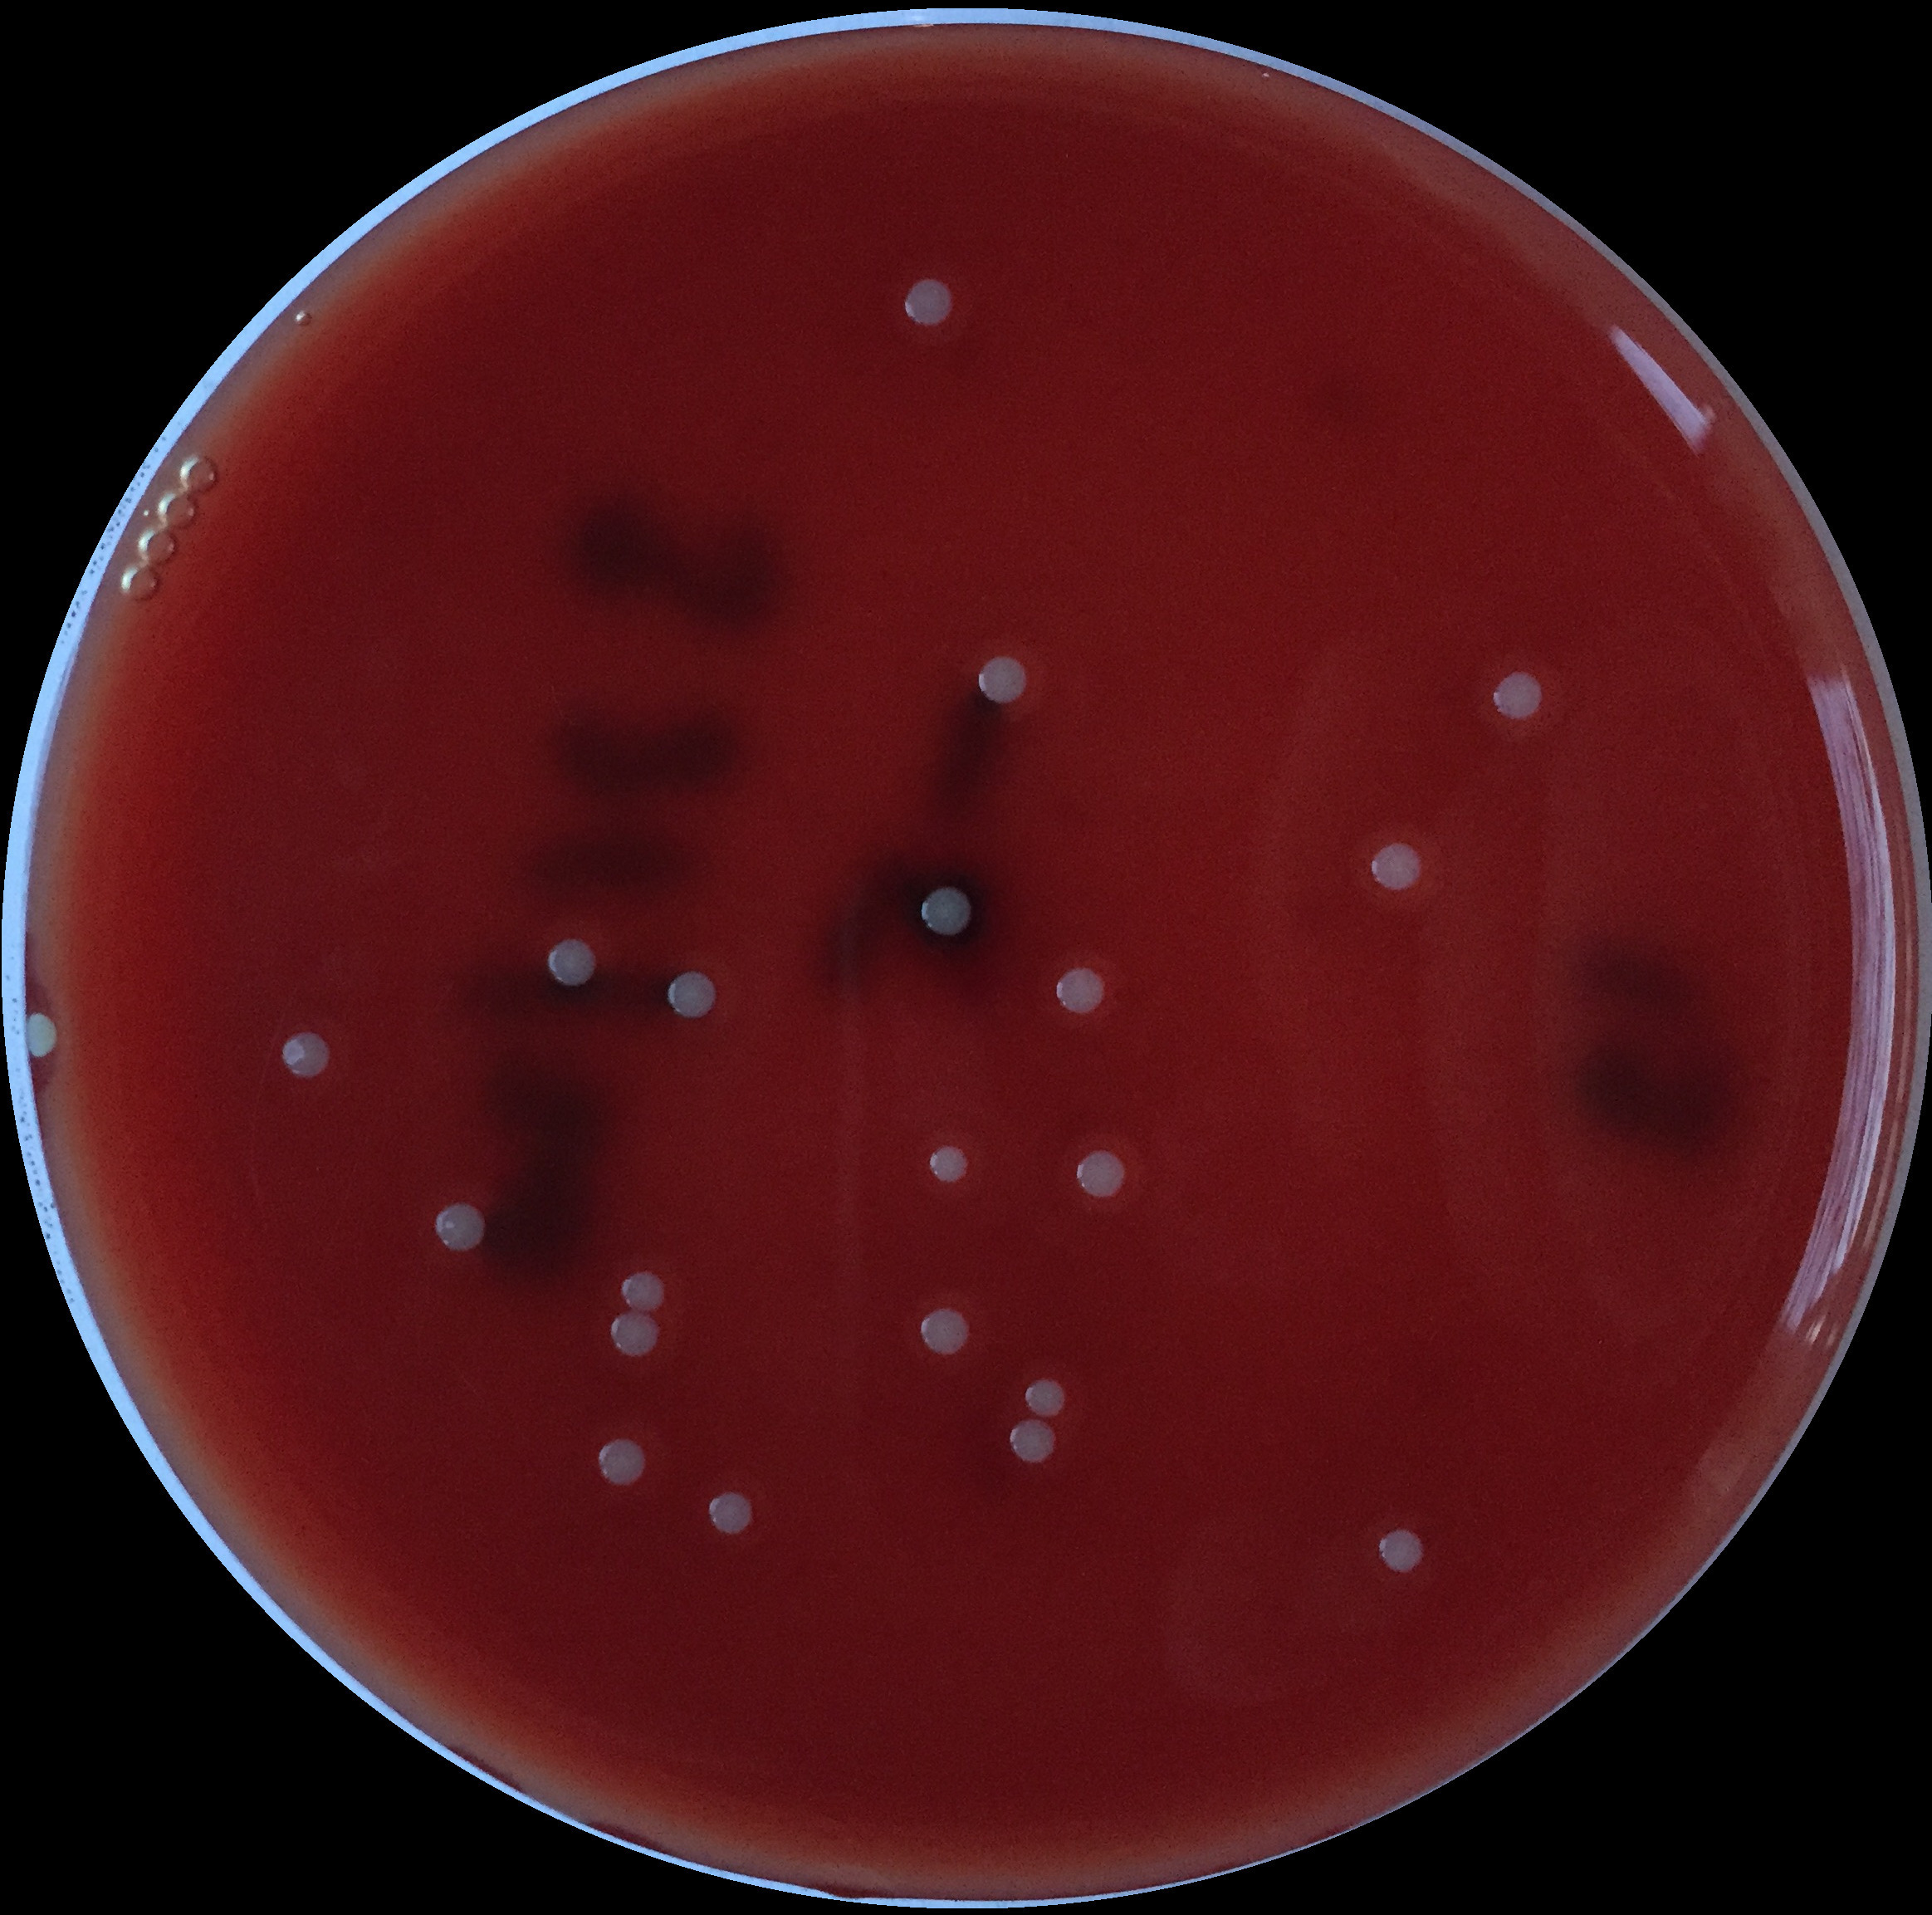sp21: (1485, 654, 1557, 737), (912, 1131, 984, 1201), (973, 654, 1033, 723), (1360, 840, 1427, 896), (542, 928, 596, 996), (915, 1301, 977, 1361), (591, 1433, 652, 1492), (664, 968, 724, 1028), (1071, 1143, 1129, 1203), (601, 1308, 663, 1364), (915, 880, 973, 938), (896, 275, 955, 330), (1052, 957, 1106, 1017), (430, 1203, 491, 1254), (277, 1033, 337, 1084), (1005, 1415, 1061, 1468), (1374, 1526, 1427, 1577), (707, 1489, 756, 1538), (1019, 1375, 1069, 1422), (18, 1010, 63, 1059), (615, 1271, 670, 1312)
